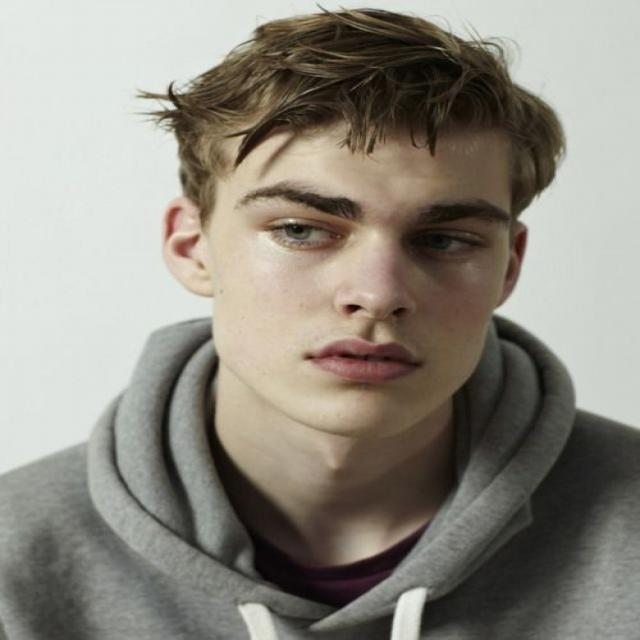earlobe: (188, 267, 216, 297), (497, 278, 515, 306)
eye: (268, 223, 336, 242), (415, 232, 477, 252)
nose: (338, 303, 413, 339)
wholeear: (160, 197, 216, 297), (496, 219, 528, 306)
